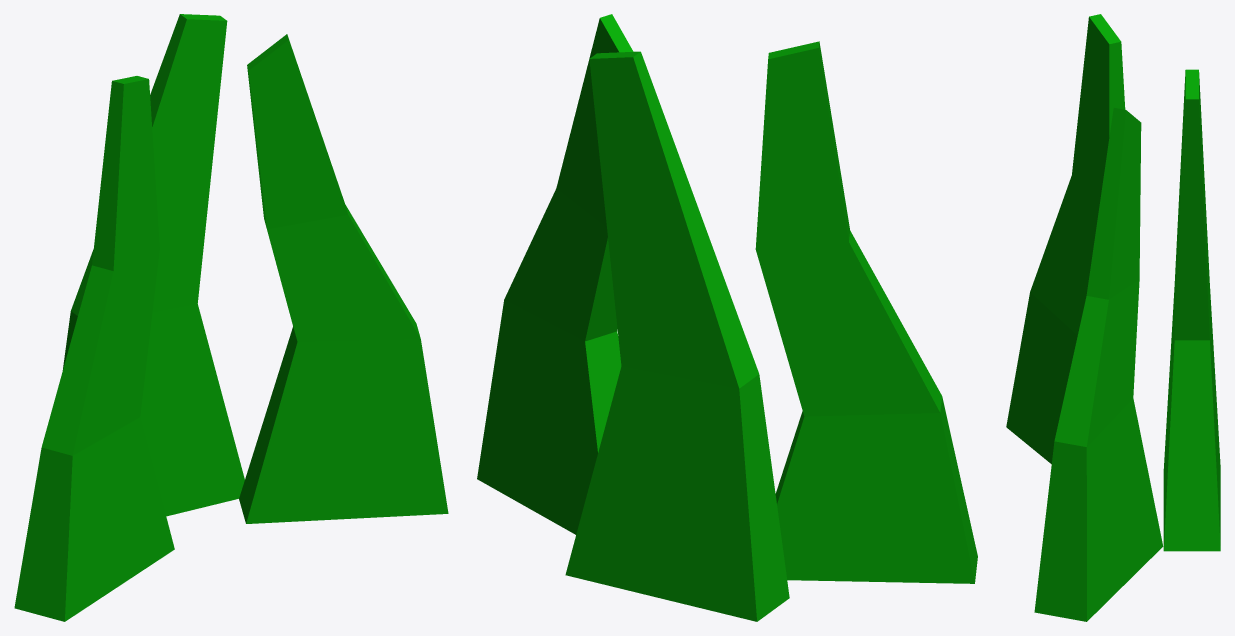
Rendered from Grass_part.fbx.
The picture shows the model from 3 angles, left to right: view 1: azimuth 30°, elevation 25°; view 2: azimuth 150°, elevation 25°; view 3: azimuth 270°, elevation 25°; orthographic projection. The views are drawn at different scales.
Visible parts, largest first — view 1: Cube; view 2: Cube; view 3: Cube.
Boxes of the visible parts, box(x1,y1,x2,y2) form: Cube: box(14, 14, 448, 621); Cube: box(477, 14, 977, 621); Cube: box(1006, 14, 1220, 621).
Bounding box in the file's own units: 81.72 × 84.86 × 36.01.
